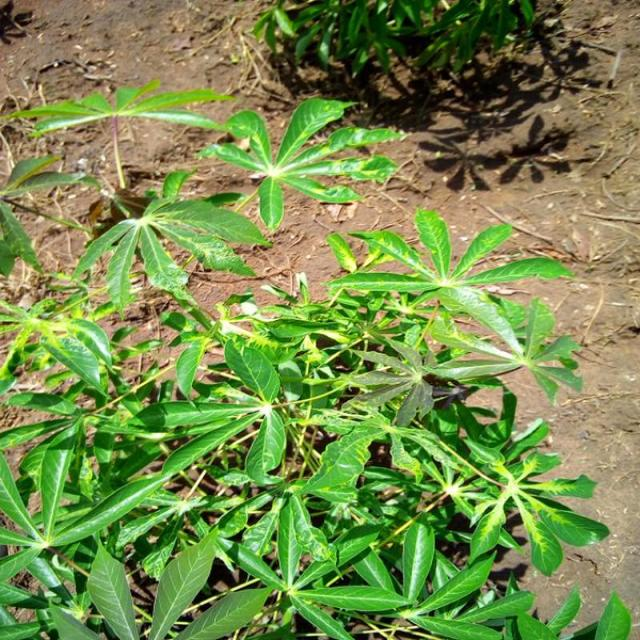cassava leaf: (1, 79, 625, 638)
